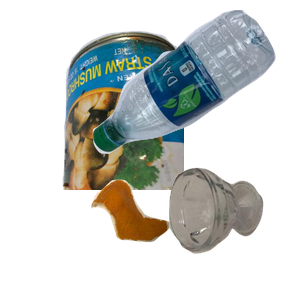glass: (166, 165, 300, 300)
metal: (60, 28, 300, 208)
plastic: (90, 10, 300, 156)
trash: (88, 177, 251, 300)
